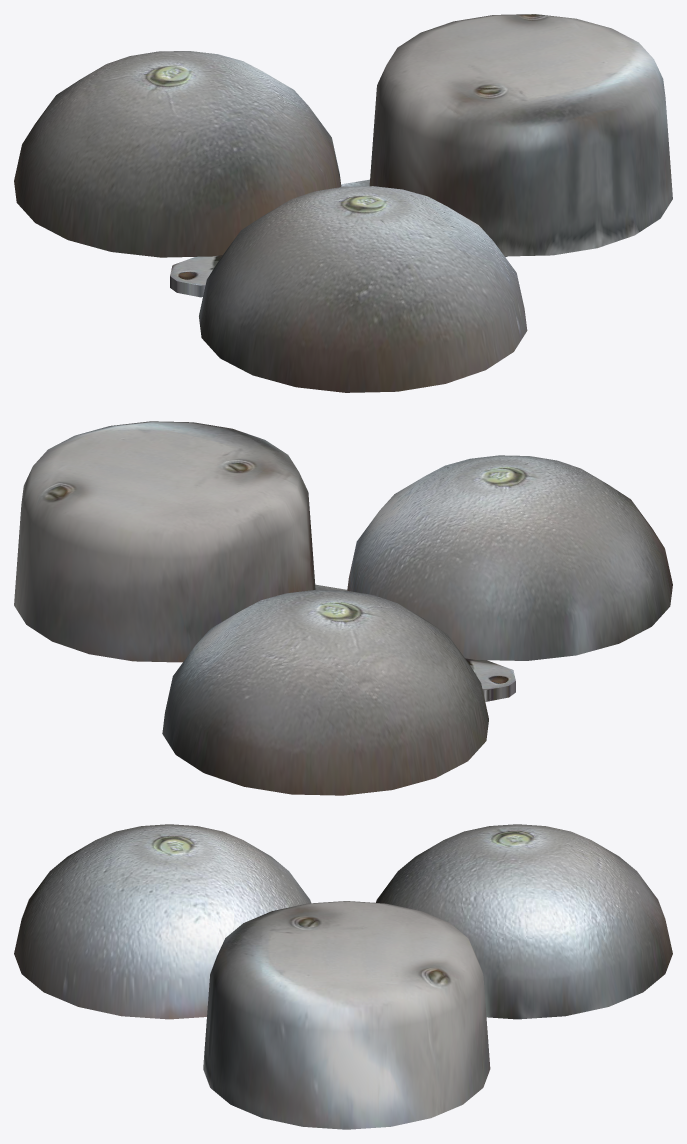
Rendered from Alarm01.FBX.
3 renders of one model, top to bottom at view 1: azimuth 30°, elevation 25°; view 2: azimuth 150°, elevation 25°; view 3: azimuth 270°, elevation 25°, orthographic. The views are drawn at different scales.
Parts seen in each view (by area): view 1: Alarm01; view 2: Alarm01; view 3: Alarm01.
Boxes of the visible parts, x1,y1,x2,y2 form: Alarm01: (14,14,672,392); Alarm01: (14,421,672,795); Alarm01: (14,824,672,1129).
Size of the model in its own units: 50.82 by 13.08 by 58.4.
